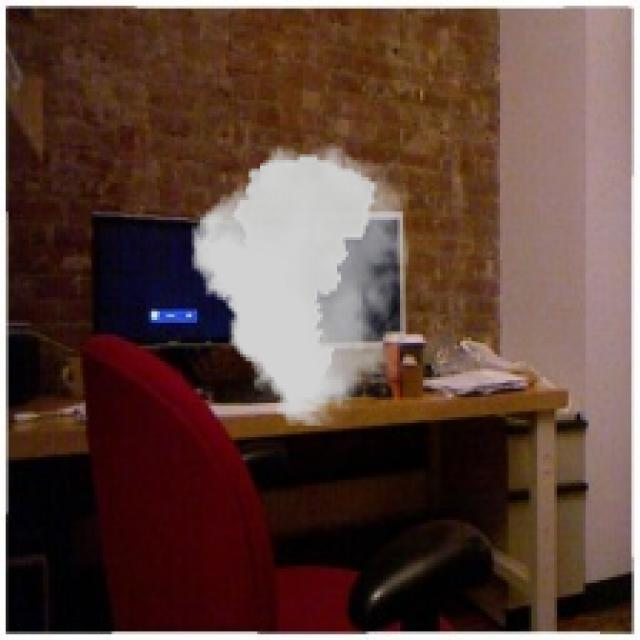Smoke: (192, 143, 408, 426)
